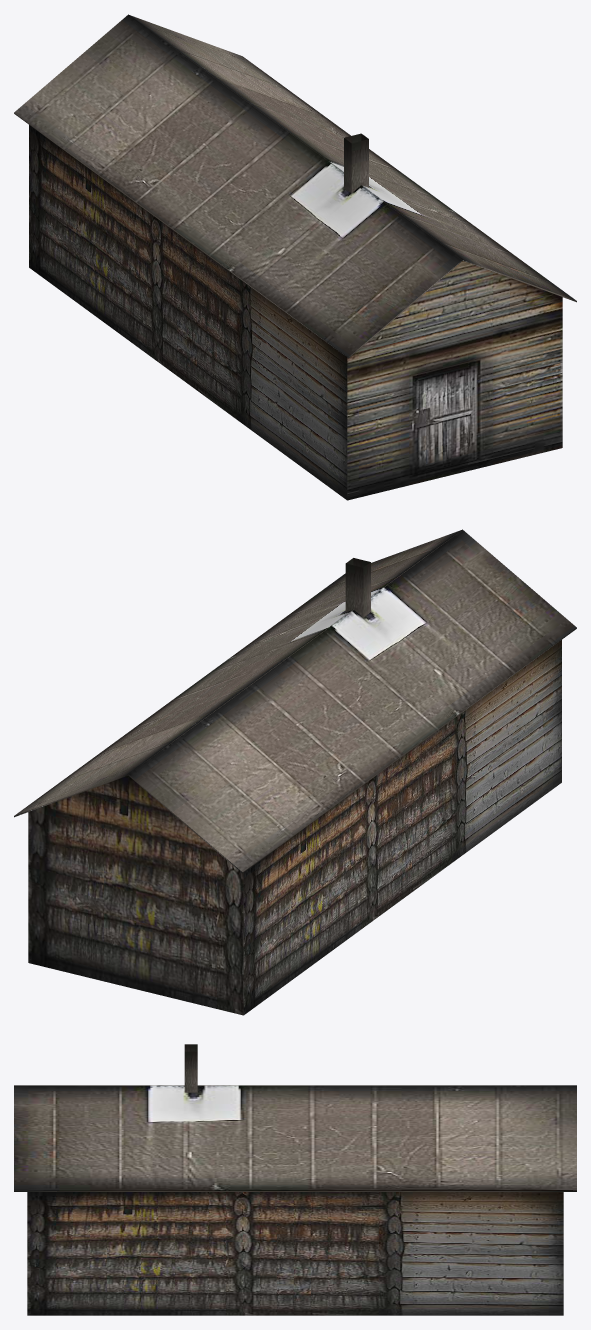
File: d_bania.FBX
The picture shows the model from 3 angles, top to bottom: view 1: azimuth 30°, elevation 25°; view 2: azimuth 150°, elevation 25°; view 3: azimuth 270°, elevation 25°; orthographic projection. The views are drawn at different scales.
Visible parts, largest first — view 1: d_bania; view 2: d_bania; view 3: d_bania.
Boxes of the visible parts, box(x1,y1,x2,y2) form: d_bania: box(14, 14, 576, 500); d_bania: box(14, 529, 576, 1015); d_bania: box(14, 1044, 576, 1315).
Bounding box in the file's own units: 4.1 × 10.38 × 4.54.
